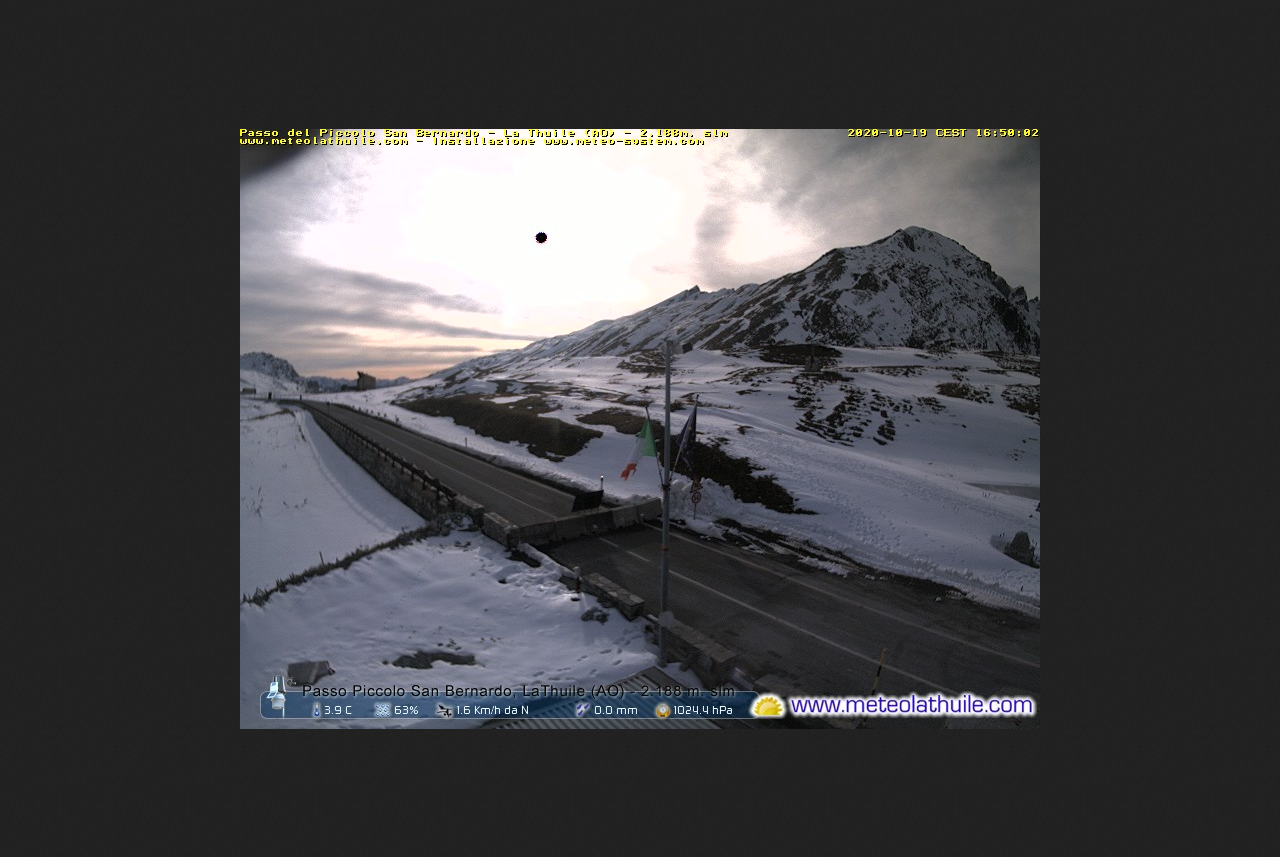maybe: (621, 417, 655, 477), (676, 407, 700, 487)
